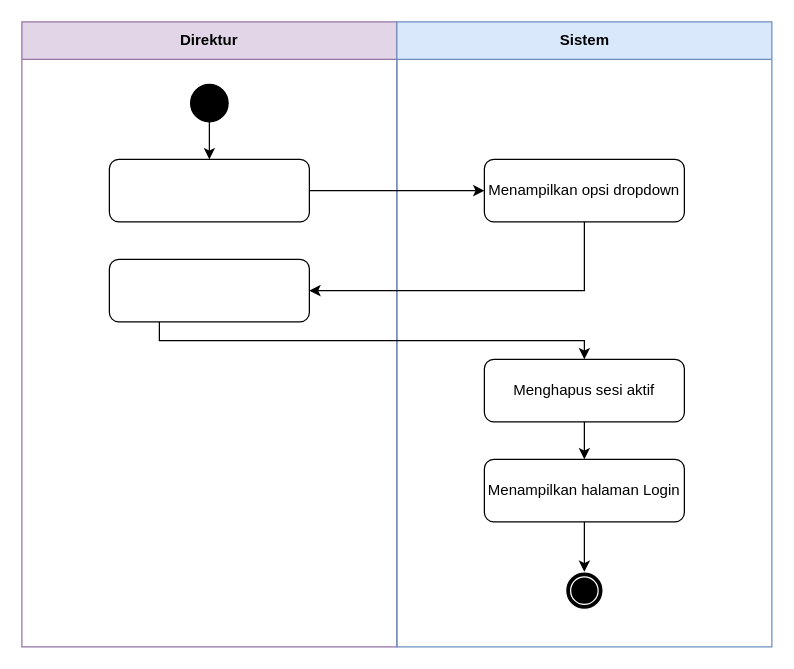
Some shapes in this 794 by 669 pixel diagram are drawn without their labels. Here are the shapes that lost their labels. From the top down, the centre of each, then its label:
point (208, 190): Memilih menu profil
point (208, 290): Menekan tombol Logout
